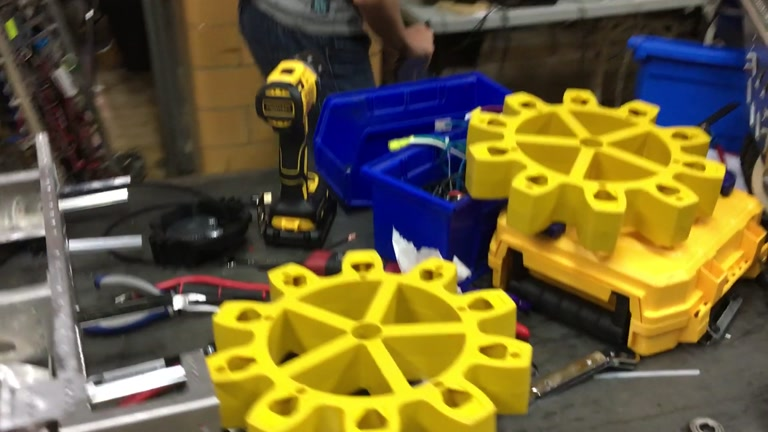gear: (205, 248, 533, 432), (464, 87, 726, 251)
